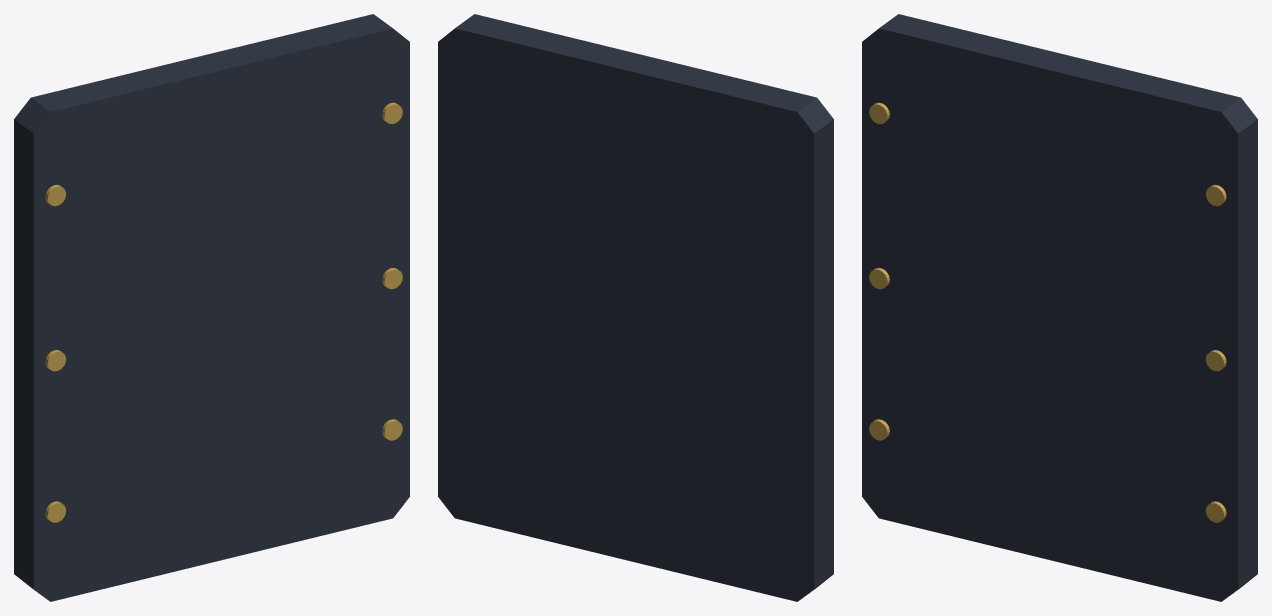
Rendered from 08A_Aegis_Shield_Armor_Plate.obj.
3 views of the same model, side by side, from view 1: azimuth 30°, elevation 25°; view 2: azimuth 150°, elevation 25°; view 3: azimuth 330°, elevation 25° (orthographic).
Visible parts, largest first — view 1: 000_MainArmor; view 2: 000_MainArmor; view 3: 000_MainArmor.
Part boxes in pixels (box(x1,y1,x2,y2)): 000_MainArmor: box(14, 14, 409, 601); 000_MainArmor: box(438, 14, 833, 601); 000_MainArmor: box(862, 14, 1257, 601).
Size of the model in its own units: 1.43 by 1.78 by 0.153.
